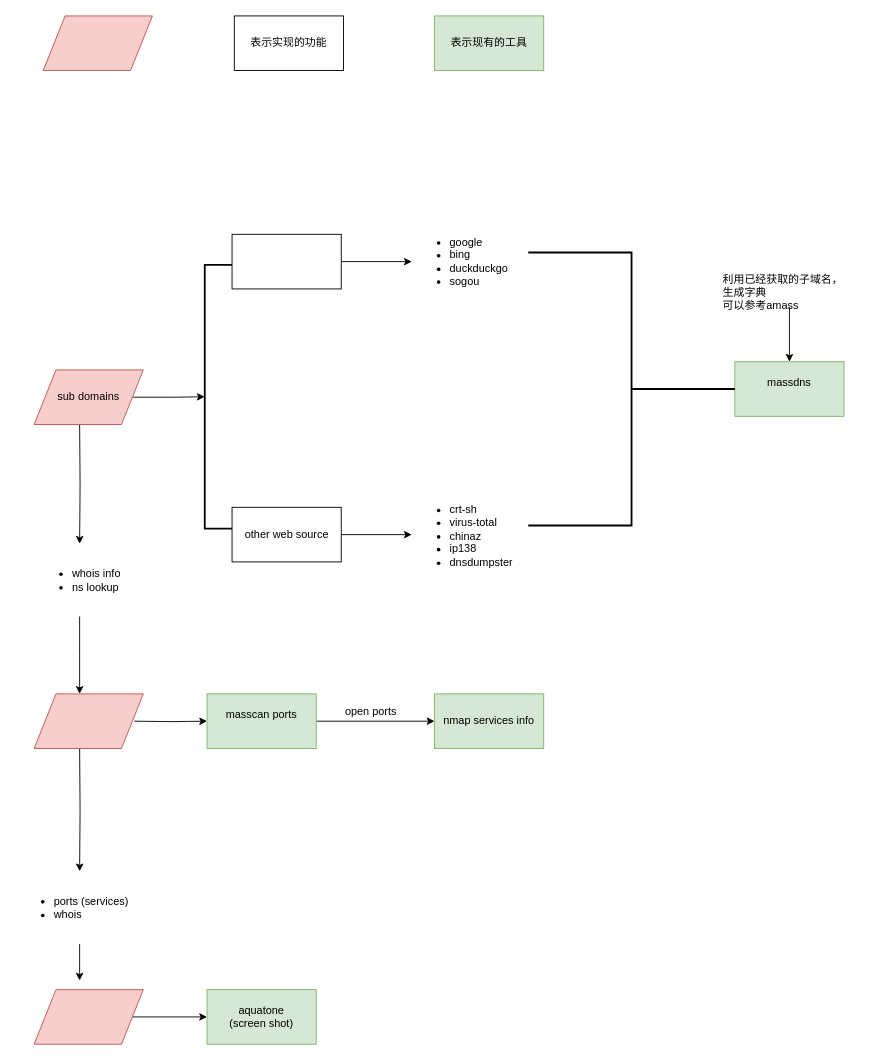
Image size: 873x1060. Some labels were removed from this diagram. Each missing label, with the centre of its shape:
"ips" belongs at point (88, 720).
"search engine" belongs at point (286, 261).
"web services" belongs at point (88, 1016).
"表示信息" belongs at point (97, 43).
